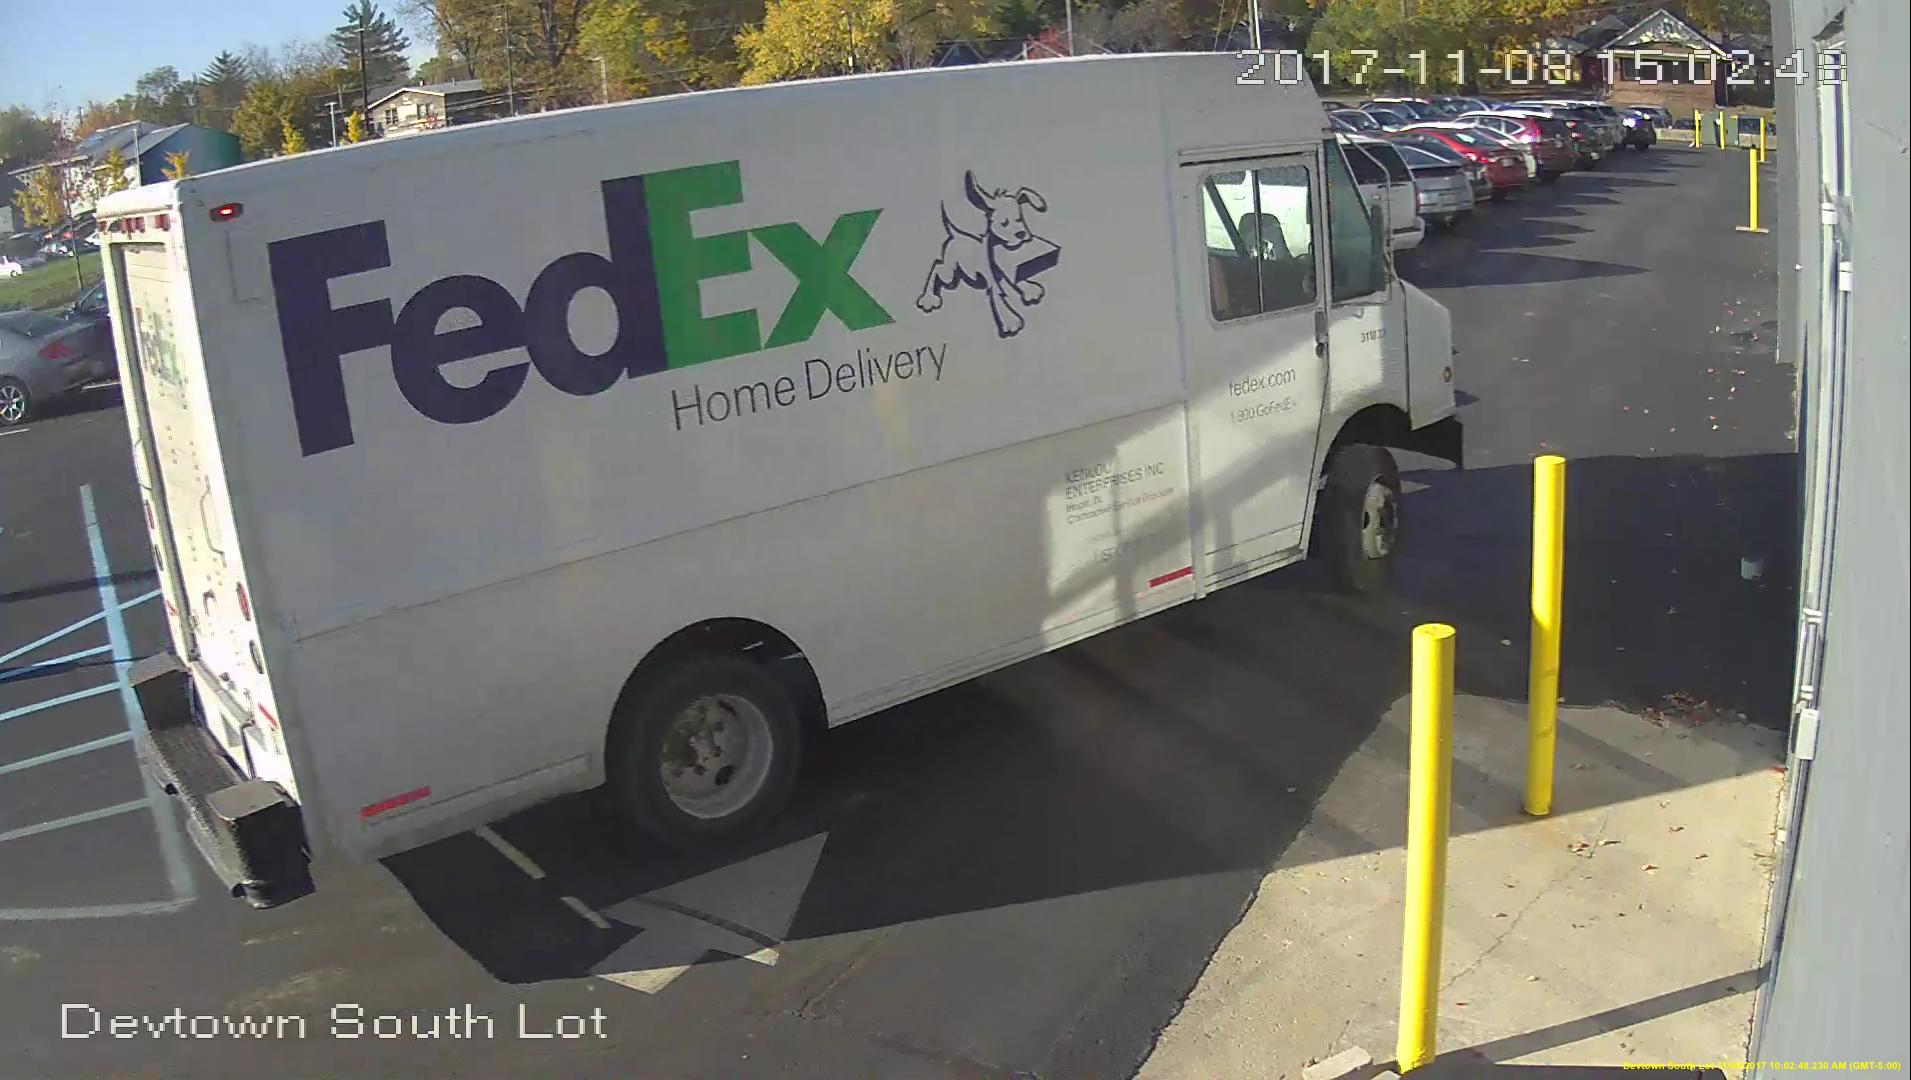fedex_truck: (91, 45, 1465, 920)
